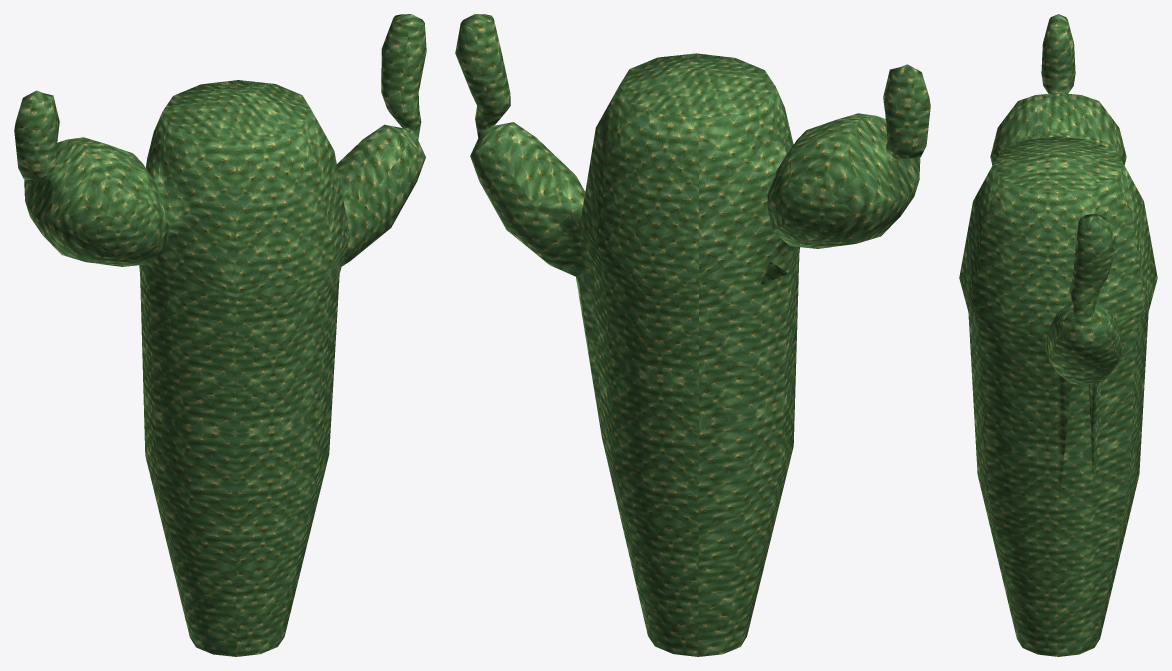
The model's file is VEG0410026.fbx.
3 views of the same model, side by side, from view 1: azimuth 30°, elevation 25°; view 2: azimuth 150°, elevation 25°; view 3: azimuth 270°, elevation 25° (orthographic). The views are drawn at different scales.
Parts seen in each view (by area): view 1: smVEG0410026; view 2: smVEG0410026; view 3: smVEG0410026.
Boxes of the visible parts, left/top/right/bottom form: smVEG0410026: left=14, top=14, right=426, bottom=656; smVEG0410026: left=455, top=14, right=930, bottom=656; smVEG0410026: left=959, top=14, right=1157, bottom=656.
Size of the model in its own units: 163 by 216 by 72.47.
Materials: 1 (1 with a texture image).
